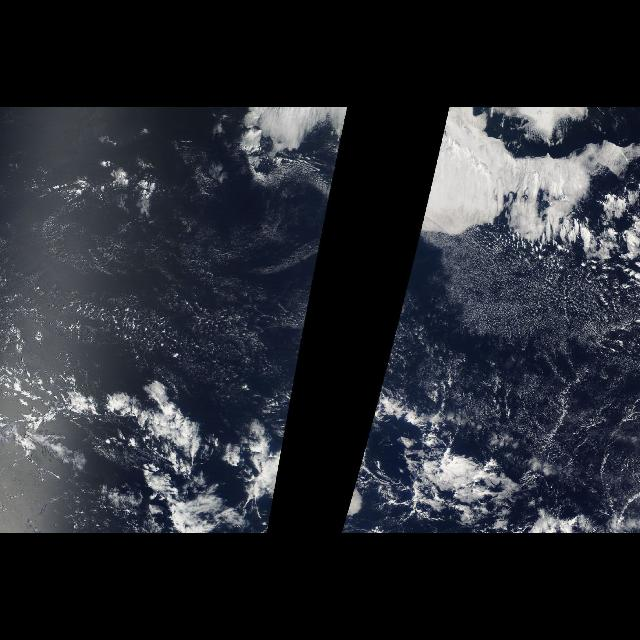Gravel: (375, 366, 627, 530), (5, 346, 238, 506)
Sugar: (2, 170, 328, 386), (400, 210, 640, 480)
